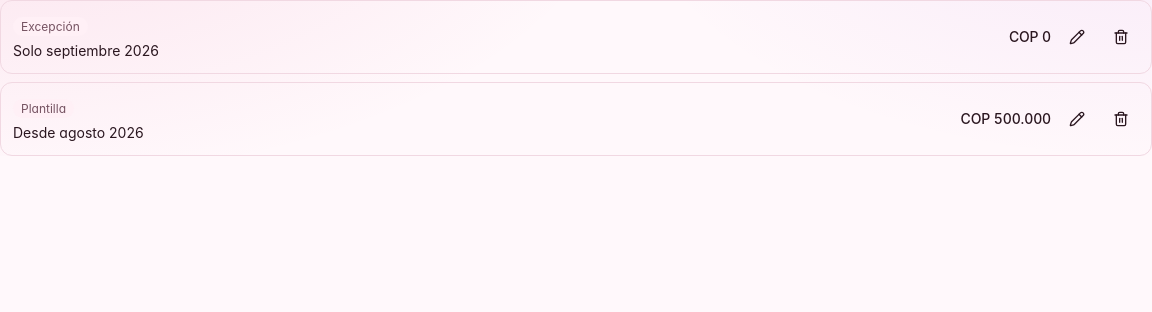
BudgetHistory › la corrección no ofrece cambiar alcance ni mes
Click the button named "Corregir monto de la plantilla desde agosto 2026" at (1077, 119), box [1059,101,1095,137]
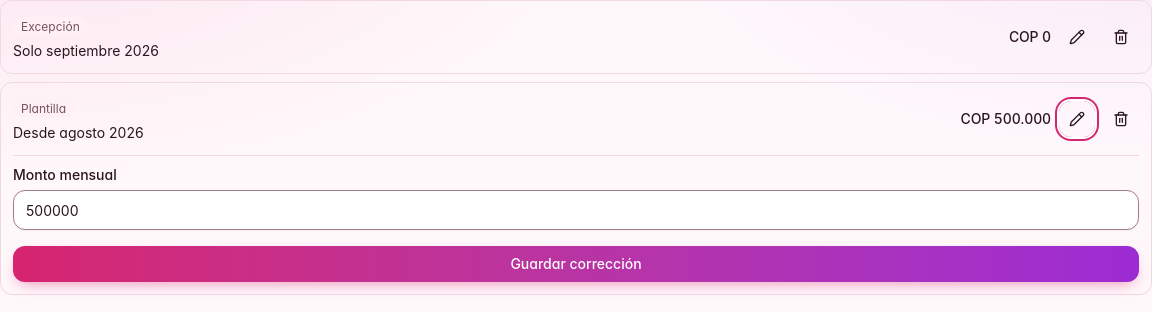
Check: the field labelled "Monto mensual" holds "500000", box [13,190,1139,230]
